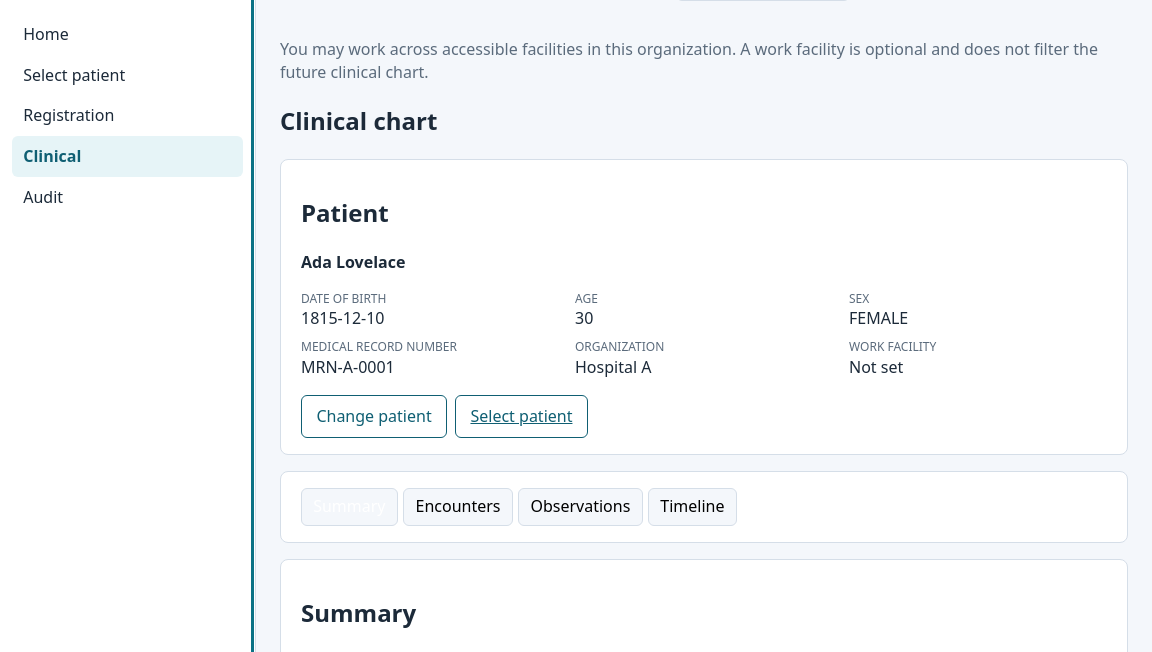
Test: manual vital write form › shows only backend-approved measurements in subset context
Click the button "Observations": (580, 507) [518,488,643,526]
(page scrolled)
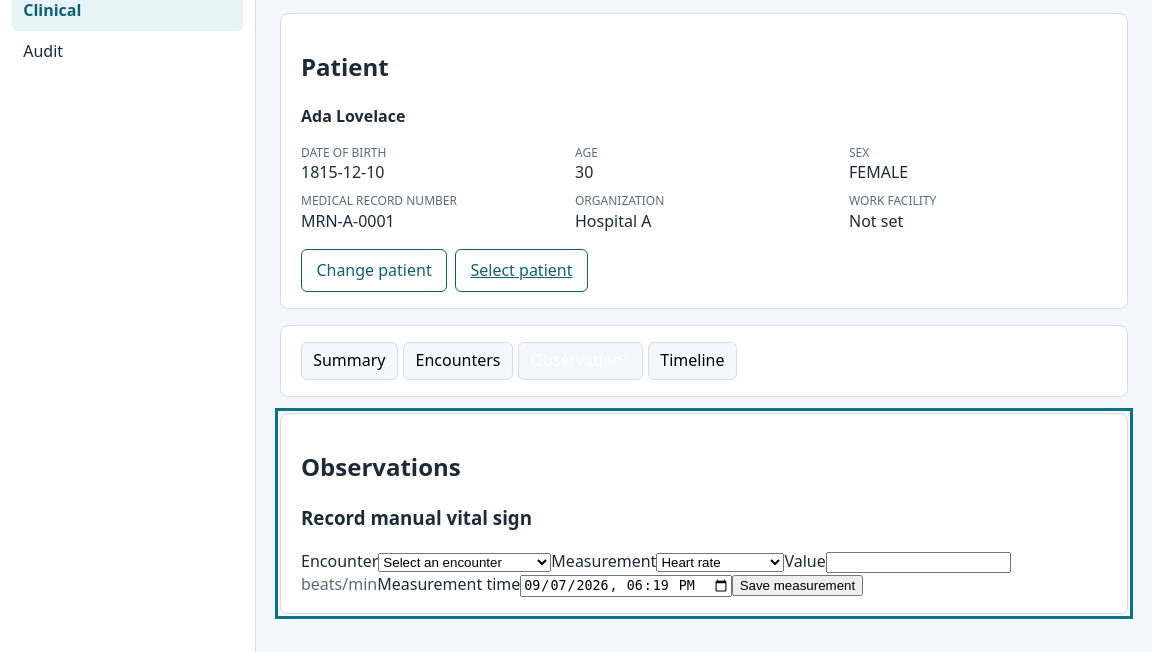
expect the heading "Record manual vital sign" is shown: met, box [301,505,532,530]
